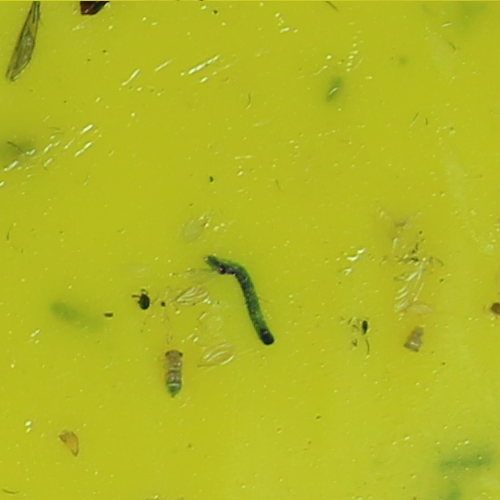Glycaspis: (161, 349, 186, 397)
